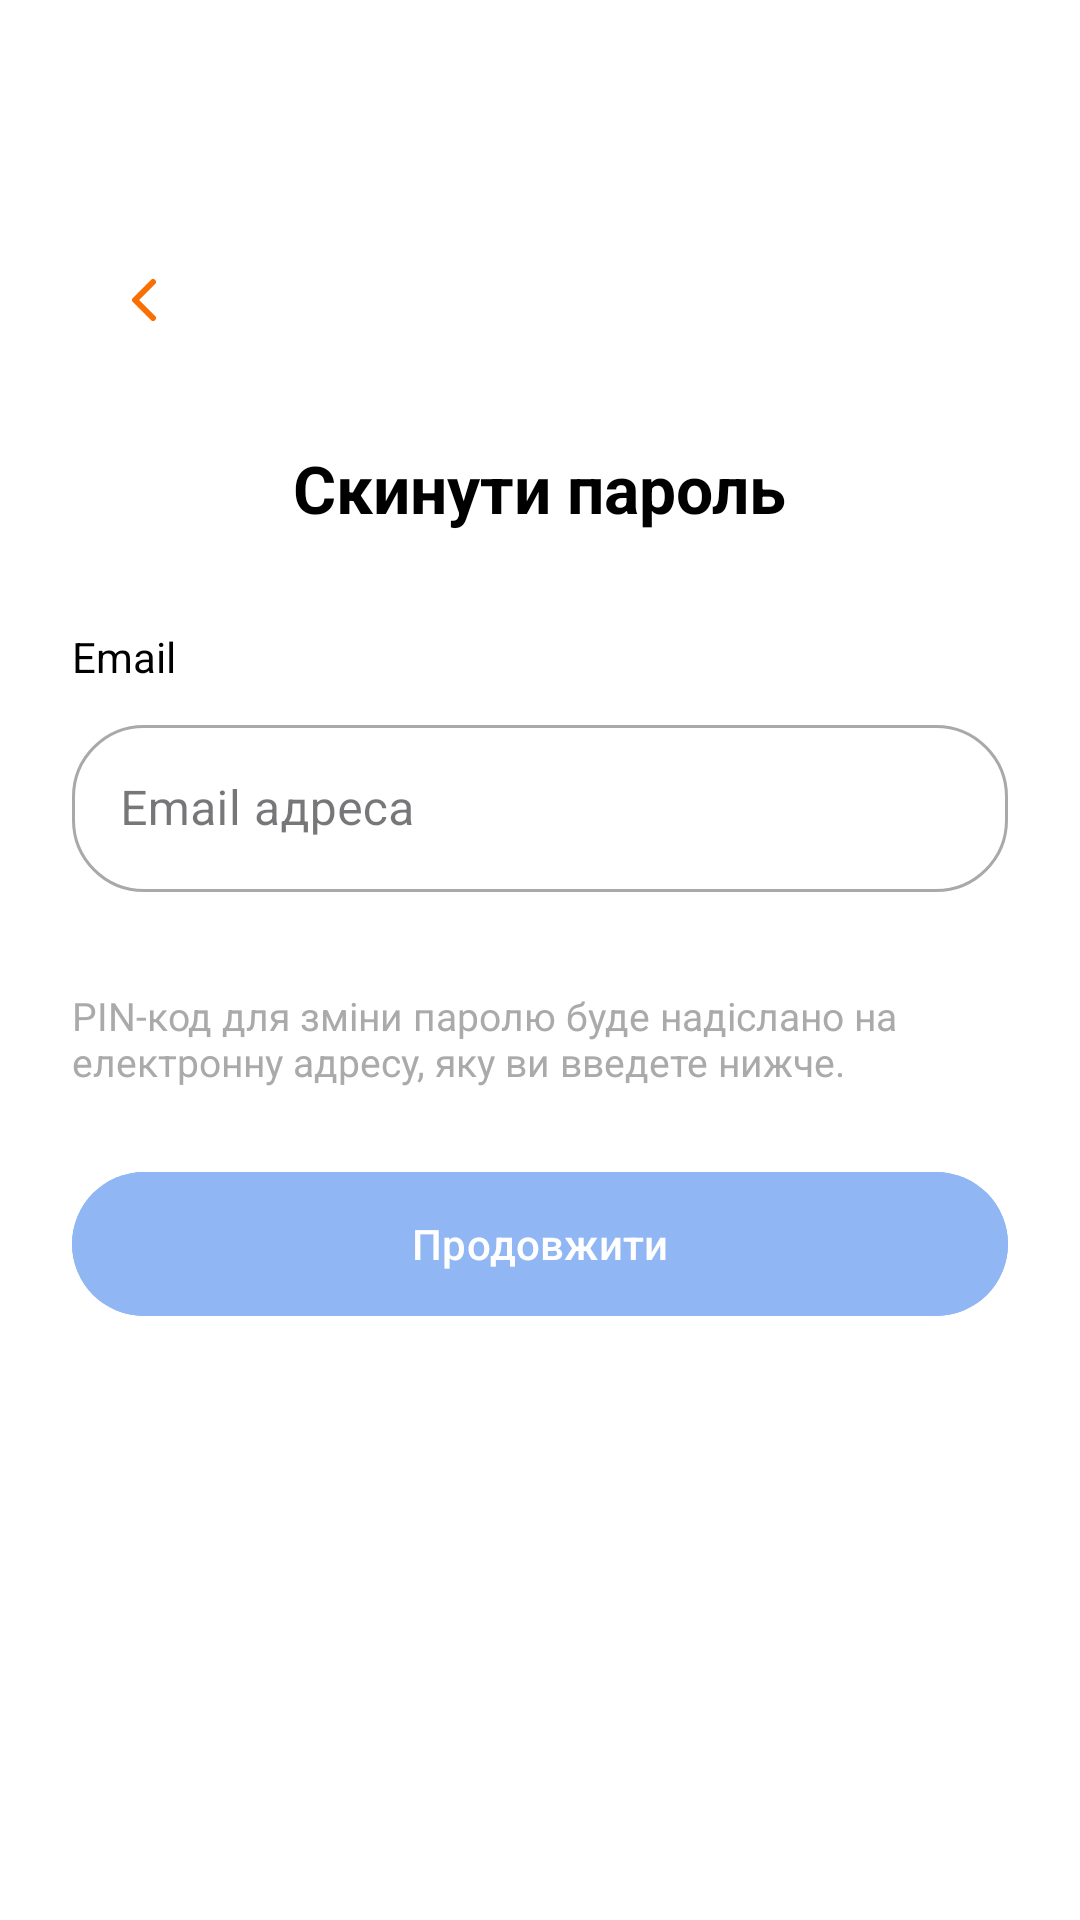

Screen size 1080 × 1920. Icon name, then its box in pixels as box(x1, y1, x2, y2):
back: box(132, 279, 156, 321)
